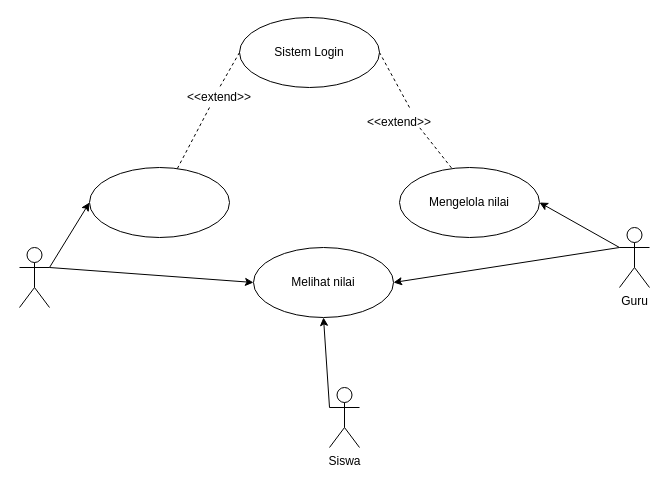
Image size: 667x486. Some labels were removed from this diagram. The shapes that lost their labels are listed below. From the top down, each one's centre as x and y in pixels, then its label:
At (159,202): "Mengelola Pengguna".
At (34,277): "Admin".
